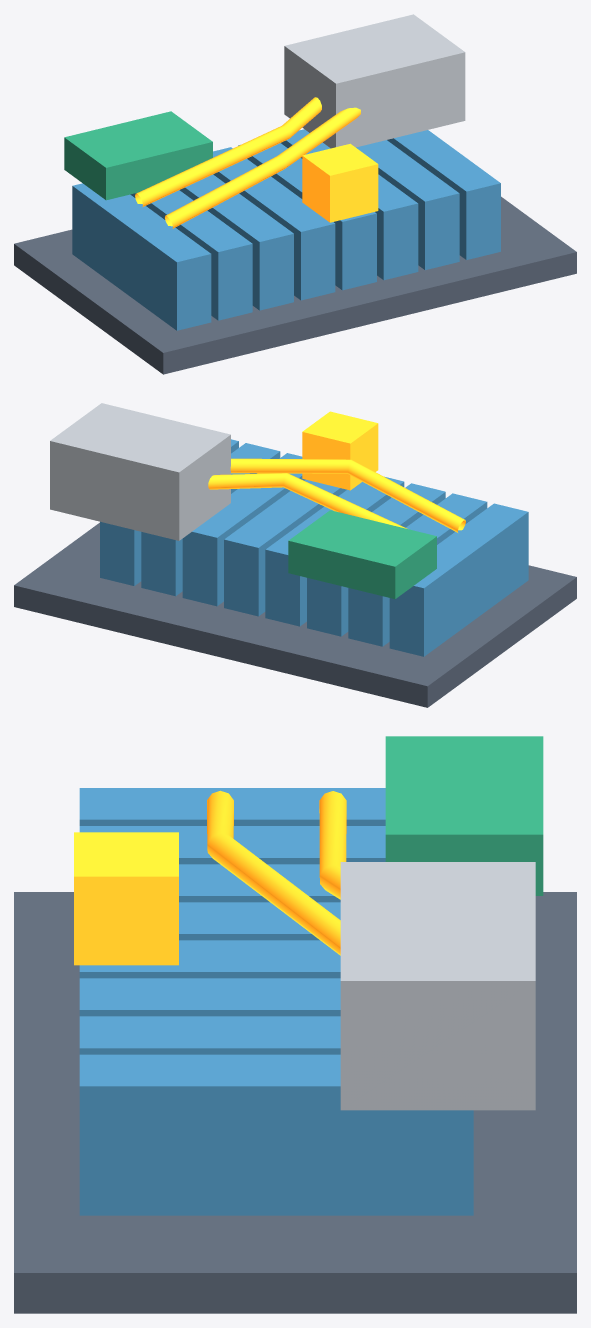
File: autoel-hv.glb
The picture shows the model from 3 angles, top to bottom: view 1: azimuth 30°, elevation 25°; view 2: azimuth 150°, elevation 25°; view 3: azimuth 270°, elevation 25°; orthographic projection. The views are drawn at different scales.
Parts seen in each view (by area): view 1: BatteryTray, IGBTInverter, HVCell0, BMSUnit, HVCell7, HVCell3, HVCell6, HVCell2, HVCell1, ServicePlug, HVCell4, HVCell5 (+2 smaller); view 2: BatteryTray, IGBTInverter, HVCell0, BMSUnit, HVCell4, HVCell5, HVCell3, ServicePlug, HVCablePlus, HVCell1, HVCell2, HVCell6 (+2 smaller); view 3: BatteryTray, HVCell7, IGBTInverter, BMSUnit, ServicePlug, HVCell6, HVCell5, HVCell0, HVCell4, HVCell1, HVCablePlus, HVCell3 (+2 smaller).
Part boxes in pixels (box(x1,y1,x2,y2)): BatteryTray: box(14, 196, 576, 374); IGBTInverter: box(284, 14, 465, 148); HVCell0: box(72, 183, 211, 330); BMSUnit: box(64, 111, 212, 200); HVCell7: box(387, 130, 500, 259); HVCell3: box(213, 147, 335, 300); HVCell6: box(356, 140, 459, 270); HVCell2: box(179, 174, 293, 310); HVCell1: box(130, 190, 252, 320); ServicePlug: box(302, 143, 378, 222); HVCell4: box(238, 143, 376, 290); HVCell5: box(281, 129, 418, 280); BatteryTray: box(14, 522, 576, 707); IGBTInverter: box(50, 403, 230, 540); HVCell0: box(389, 503, 528, 656); BMSUnit: box(288, 510, 436, 598); HVCell4: box(224, 479, 346, 616); HVCell5: box(182, 453, 305, 606); HVCell3: box(265, 476, 404, 626); ServicePlug: box(302, 411, 378, 490); HVCablePlus: box(230, 458, 465, 532); HVCell1: box(348, 493, 487, 646); HVCell2: box(307, 483, 445, 636); HVCell6: box(141, 443, 280, 596); BatteryTray: box(14, 892, 576, 1313); HVCell7: box(79, 1054, 473, 1215); IGBTInverter: box(340, 862, 535, 1110); BMSUnit: box(385, 736, 543, 895); ServicePlug: box(74, 832, 178, 965); HVCell6: box(79, 1016, 340, 1054); HVCell5: box(79, 978, 340, 1016); HVCell0: box(79, 788, 385, 825); HVCell4: box(79, 940, 340, 978); HVCell1: box(79, 826, 385, 864); HVCablePlus: box(207, 790, 340, 955); HVCell3: box(179, 902, 340, 940).
Bounding box in the file's own units: 2.4 × 0.91 × 1.5.
